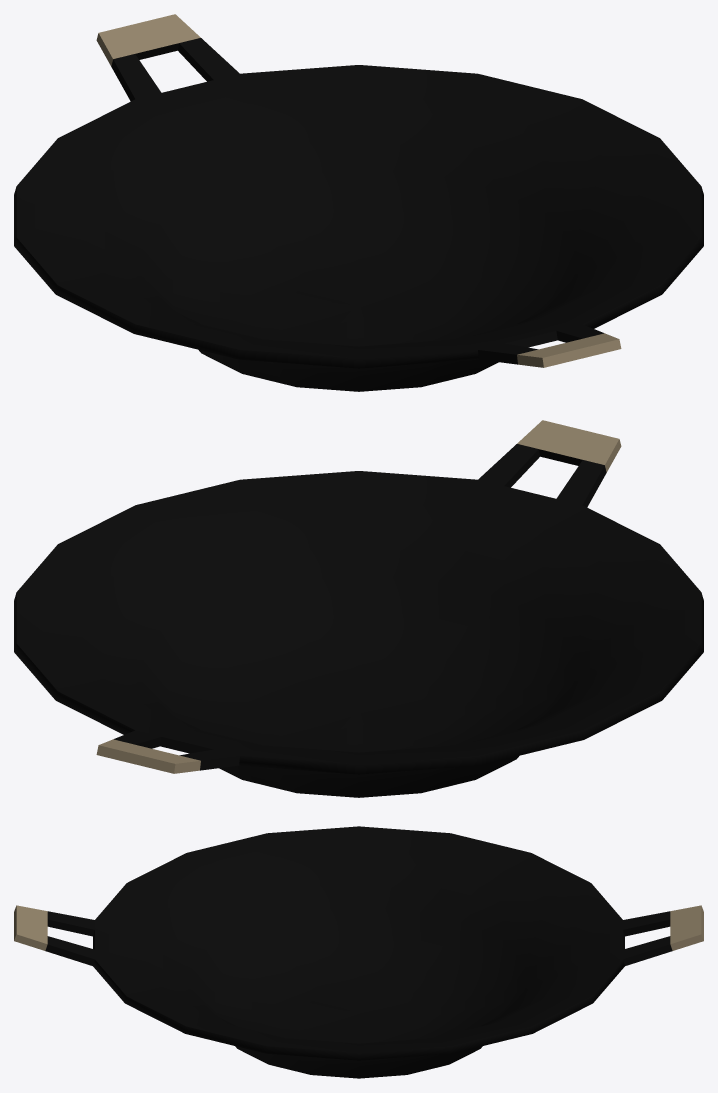
File: DeepFryer.FBX
3 views of the same model, one above another, from view 1: azimuth 30°, elevation 25°; view 2: azimuth 150°, elevation 25°; view 3: azimuth 270°, elevation 25° (orthographic). The views are drawn at different scales.
Visible parts, largest first — view 1: DeepFryer; view 2: DeepFryer; view 3: DeepFryer.
Part boxes in pixels (x1,y1,x2,y2): DeepFryer: (14, 14, 703, 391); DeepFryer: (14, 420, 703, 797); DeepFryer: (14, 826, 703, 1078).
Size of the model in its own units: 31.73 by 6.44 by 40.51.
